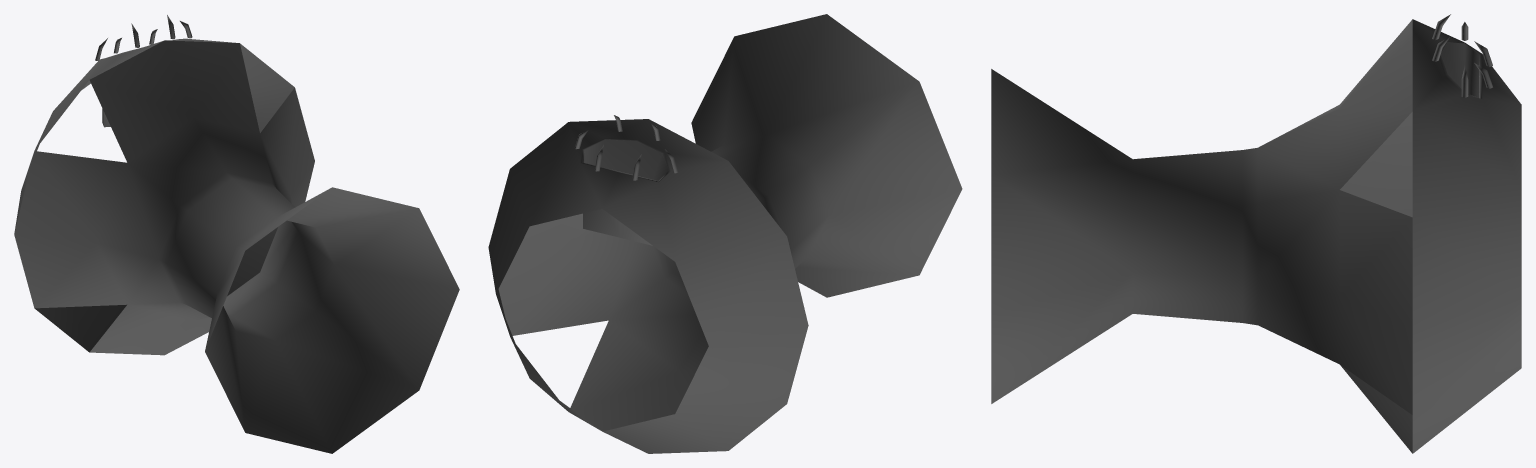
The model's file is stat_vossk_middle1.glb.
The picture shows the model from 3 angles, left to right: view 1: azimuth 30°, elevation 25°; view 2: azimuth 150°, elevation 25°; view 3: azimuth 270°, elevation 25°; orthographic projection. The views are drawn at different scales.
Visible parts, largest first — view 1: group_13; view 2: group_13; view 3: group_13.
Boxes of the visible parts, left/top/right/bottom form: group_13: left=14, top=15, right=459, bottom=453; group_13: left=488, top=14, right=962, bottom=453; group_13: left=991, top=14, right=1521, bottom=453.
Size of the model in its own units: 16896 by 17481 by 20525.
Materials: 1 (1 with a texture image).
